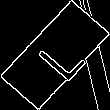L_NW: (25, 26, 85, 84)
